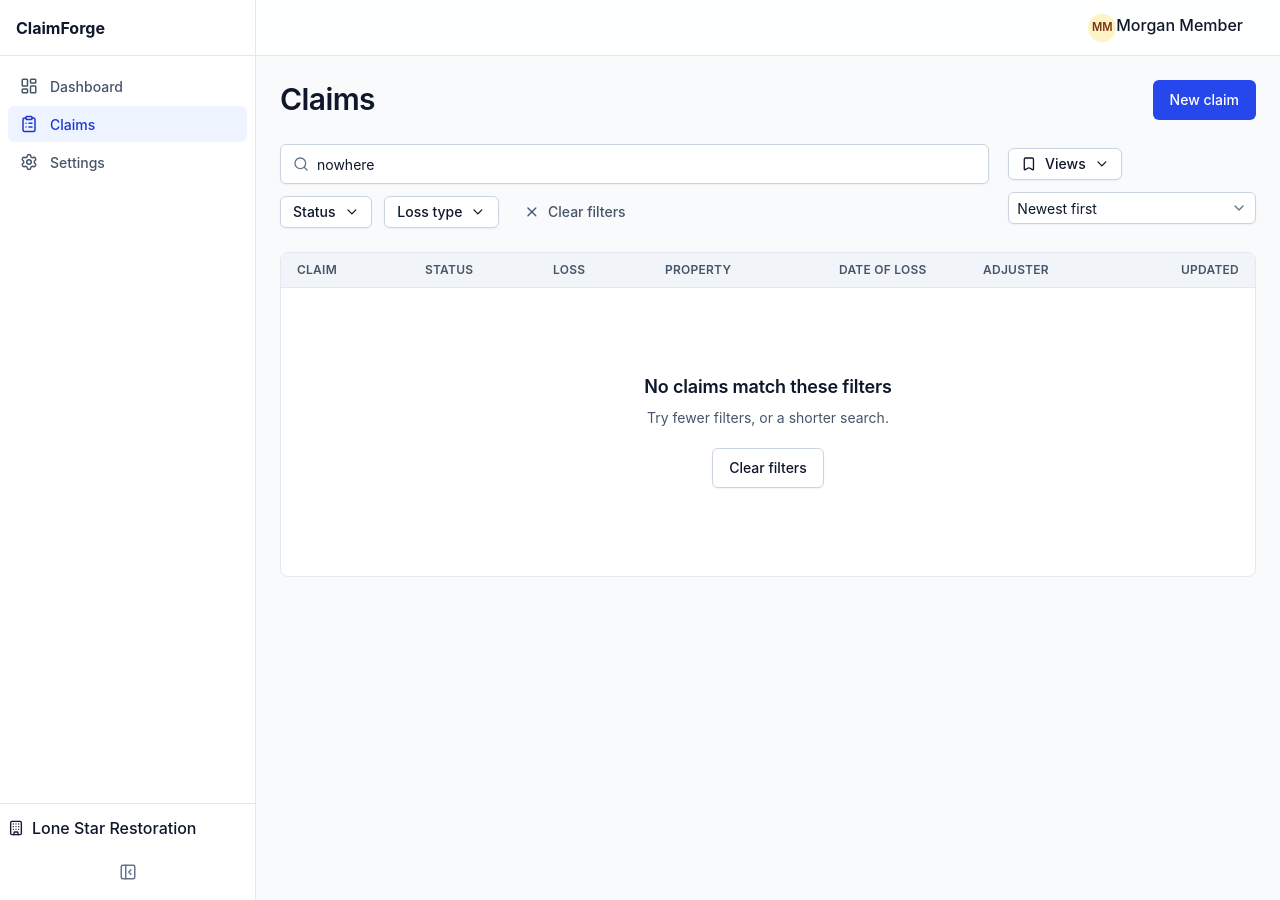
it: filters › no matches is told apart from no claims
The image size is (1280, 900).
Check: the heading "No claims match these filters" is shown, box [644,376,892,398]
Click the button "Clear filters" below "Try fewer filters, or a shorter search.".
click(768, 468)  # box [712,448,824,488]
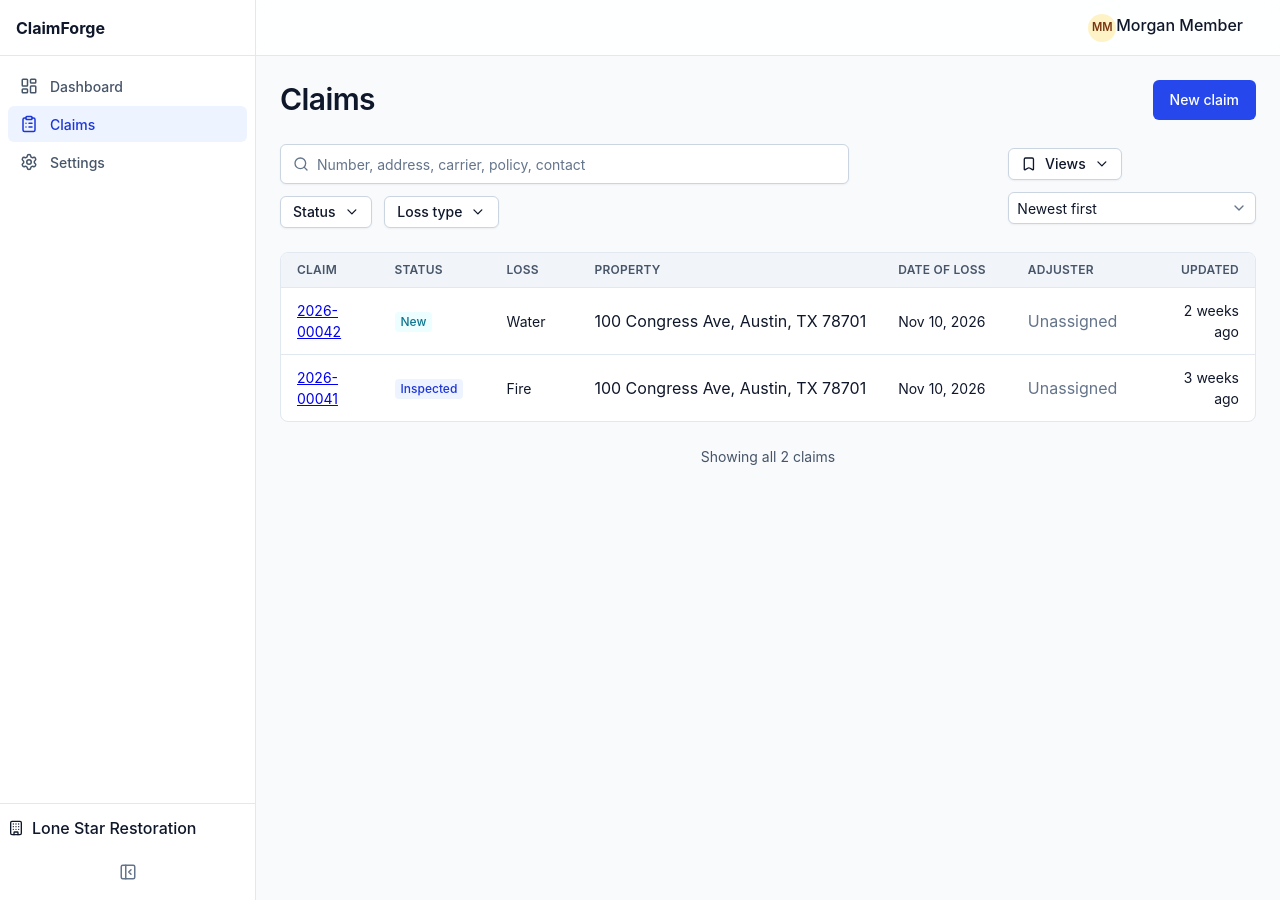
Check: the link "2026-00041" is shown, box [297,369,338,407]
